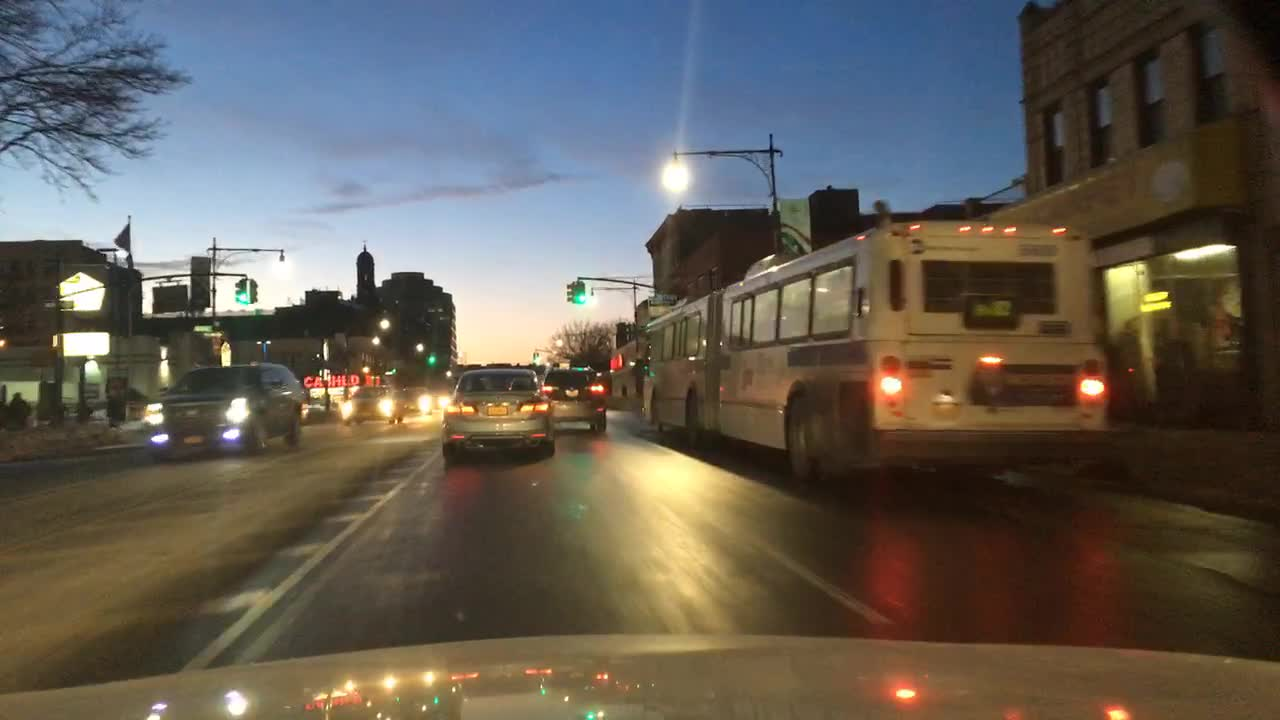bus: (638, 219, 1115, 489)
car: (137, 362, 308, 460), (441, 368, 552, 458), (542, 369, 606, 431), (338, 386, 411, 428), (398, 382, 429, 426), (432, 390, 449, 411)
person: (7, 389, 33, 432), (0, 381, 10, 429)
traffic light: (236, 278, 247, 305), (575, 282, 584, 303), (250, 278, 257, 304), (529, 350, 541, 365), (566, 283, 575, 302), (428, 354, 435, 366)
traffic sign: (648, 296, 678, 316), (58, 300, 76, 309), (43, 301, 59, 310)
